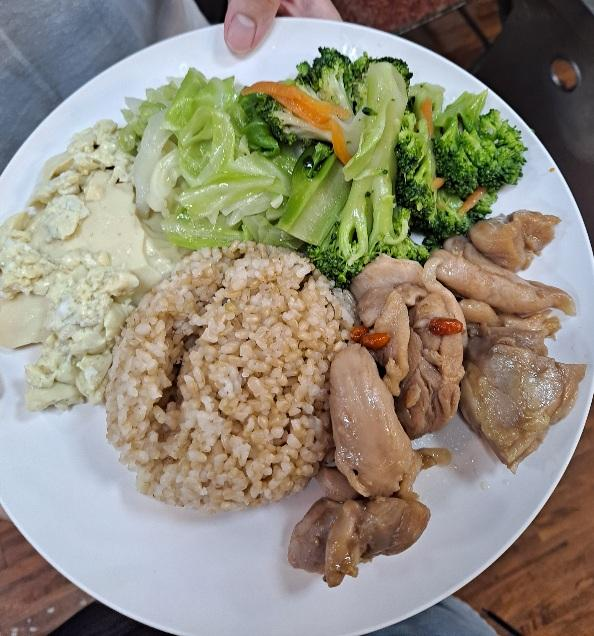big fried chicken leg: (0, 14, 594, 636)
box: (112, 232, 357, 518)
braised fish fillet: (251, 40, 523, 266), (4, 120, 156, 423), (113, 69, 286, 254)
braised pork: (286, 202, 582, 599)
